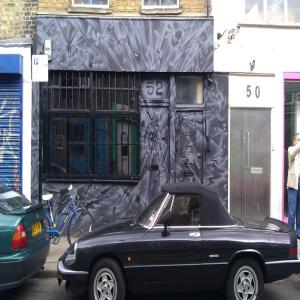Vehicle-registration-plate: (33, 223, 42, 239)
